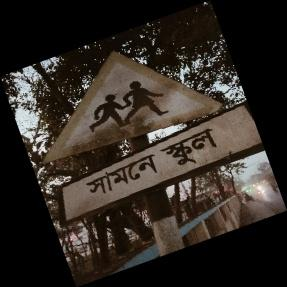School-in-front: (40, 48, 266, 227)
